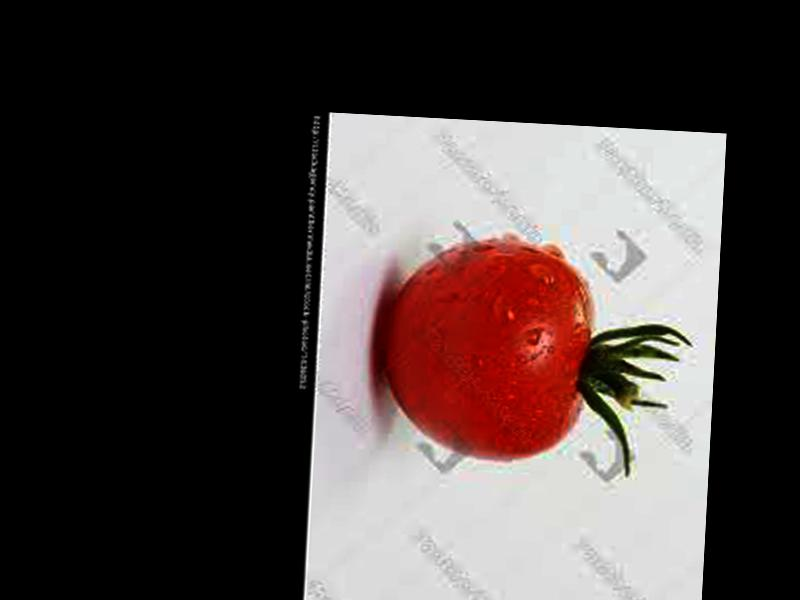Tomato: (375, 239, 594, 465)
